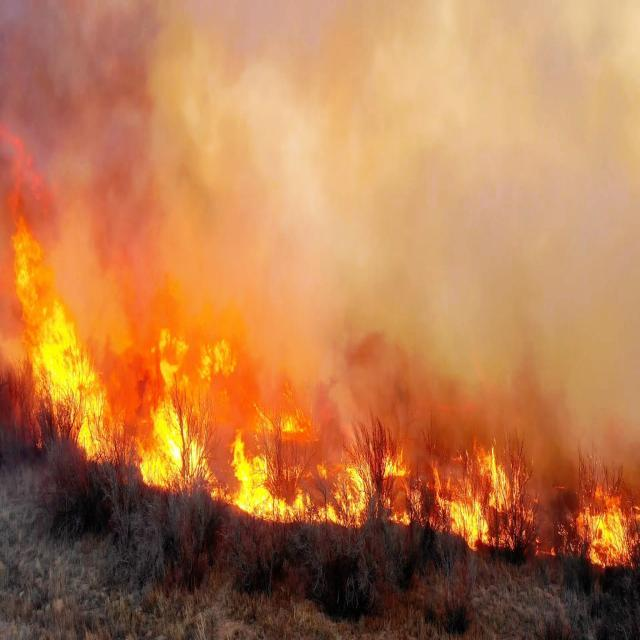Fire: (8, 216, 639, 573)
Smoke: (0, 0, 640, 219)
